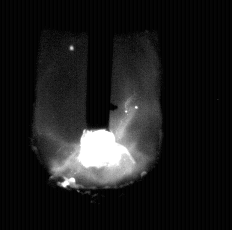arame: (86, 0, 111, 132)
poca: (30, 0, 162, 230)
